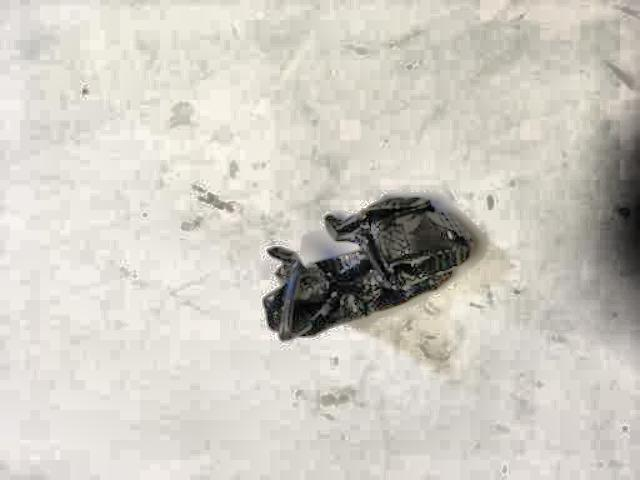Plastic: (239, 179, 487, 354)
